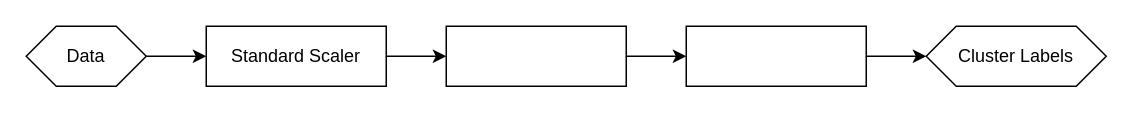
Image size: 1133x113. Some labels were removed from this diagram. The centre of each missing label's shape, as x and y in pixels:
KMeans Clustering: (x=775, y=55)
PCA or ICA: (x=535, y=55)
